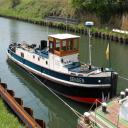tugboat: (5, 22, 120, 110)
